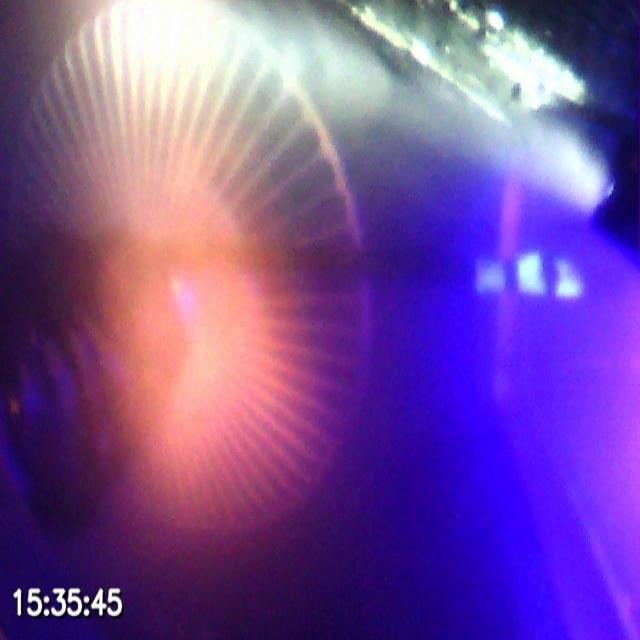white-dots: (474, 250, 586, 302)
